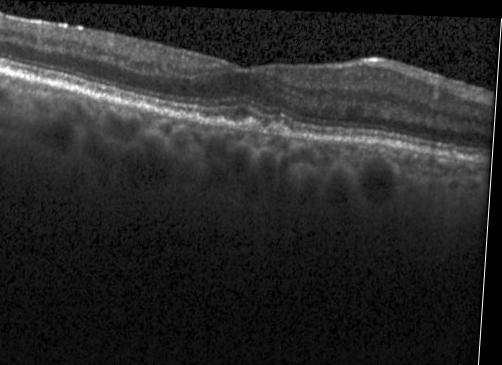retinal_drusen: (268, 122, 292, 133), (242, 117, 263, 129), (219, 119, 230, 125), (193, 113, 201, 120), (450, 147, 457, 155)
